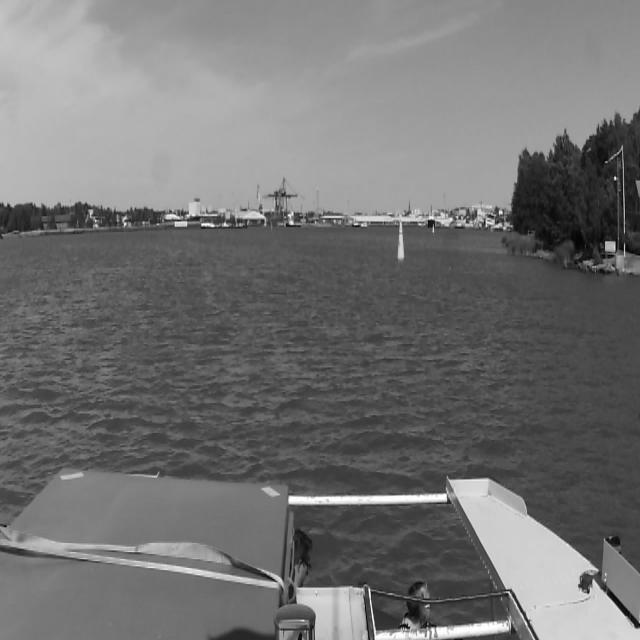buoy: (399, 225, 405, 255)
ship: (428, 204, 436, 228), (201, 221, 216, 231), (221, 222, 229, 228)
